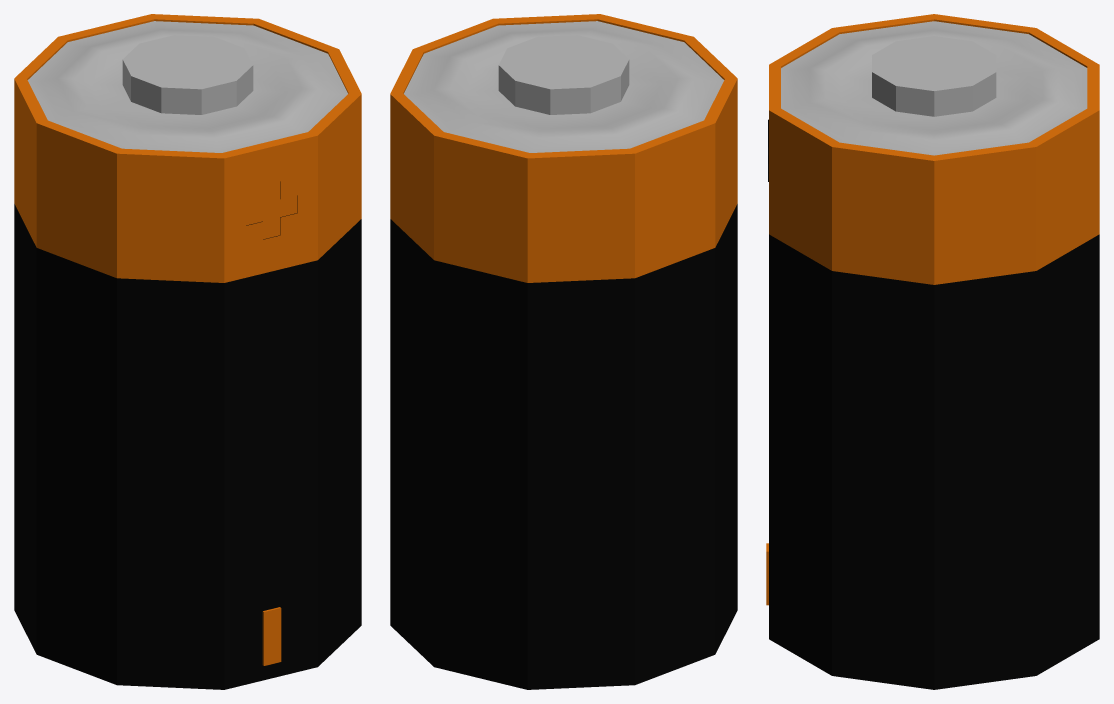
File: DBattery_V2.fbx
The picture shows the model from 3 angles, left to right: view 1: azimuth 30°, elevation 25°; view 2: azimuth 150°, elevation 25°; view 3: azimuth 270°, elevation 25°; orthographic projection.
Parts seen in each view (by area): view 1: polySurface1; view 2: polySurface1; view 3: polySurface1.
Boxes of the visible parts, x1,y1,x2,y2 form: polySurface1: (14,14,361,689); polySurface1: (390,14,737,689); polySurface1: (766,14,1099,689).
Bounding box in the file's own units: 10.8 × 19.36 × 10.35.
